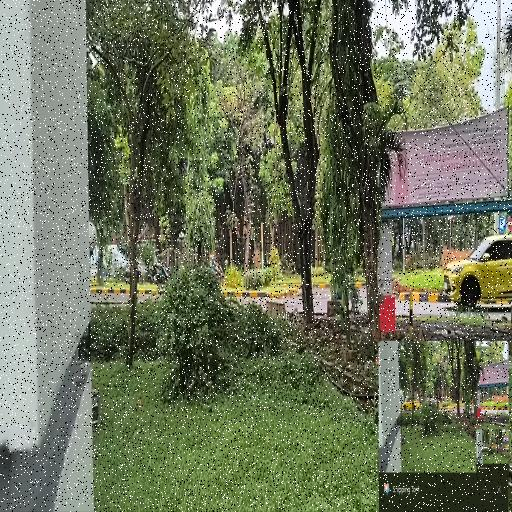Motor: (150, 250, 168, 284), (210, 253, 224, 283), (138, 265, 143, 284)
